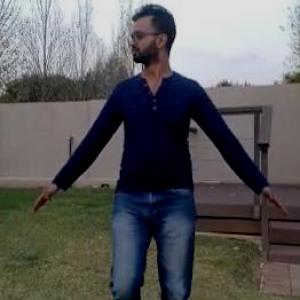land: (31, 0, 295, 299)
